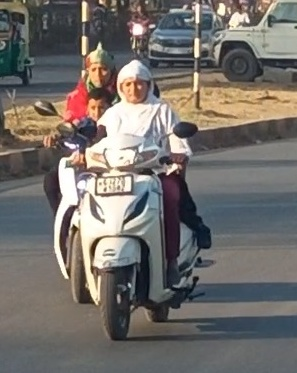BikeWithRider: (28, 44, 221, 344)
NoHelmet: (111, 57, 160, 106), (76, 43, 122, 95), (79, 85, 118, 124)
